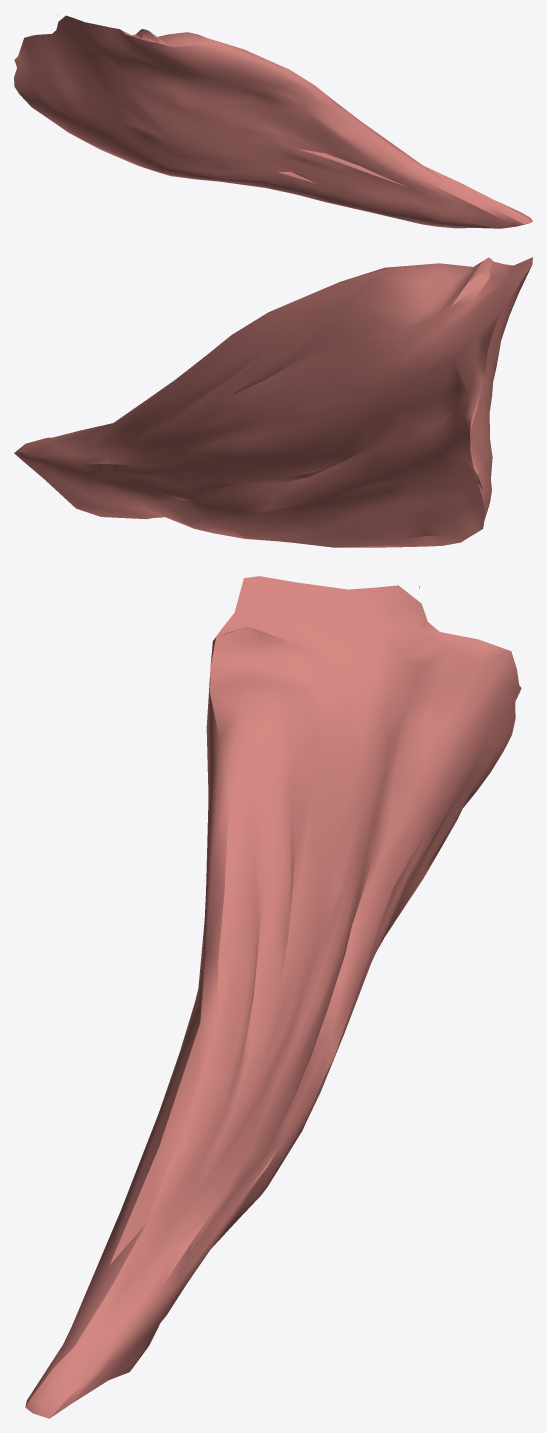
Rendered from fma22341_mm1673.glb.
3 views of the same model, one above another, from view 1: azimuth 30°, elevation 25°; view 2: azimuth 150°, elevation 25°; view 3: azimuth 270°, elevation 25° (orthographic). The views are drawn at different scales.
Parts seen in each view (by area): view 1: FMA22341_MM1673; view 2: FMA22341_MM1673; view 3: FMA22341_MM1673.
Part boxes in pixels (x1,y1,x2,y2): FMA22341_MM1673: [14, 14, 532, 228]; FMA22341_MM1673: [14, 257, 532, 547]; FMA22341_MM1673: [25, 576, 521, 1418].
Size of the model in its own units: 0.1107 by 0.066 by 0.0592.
